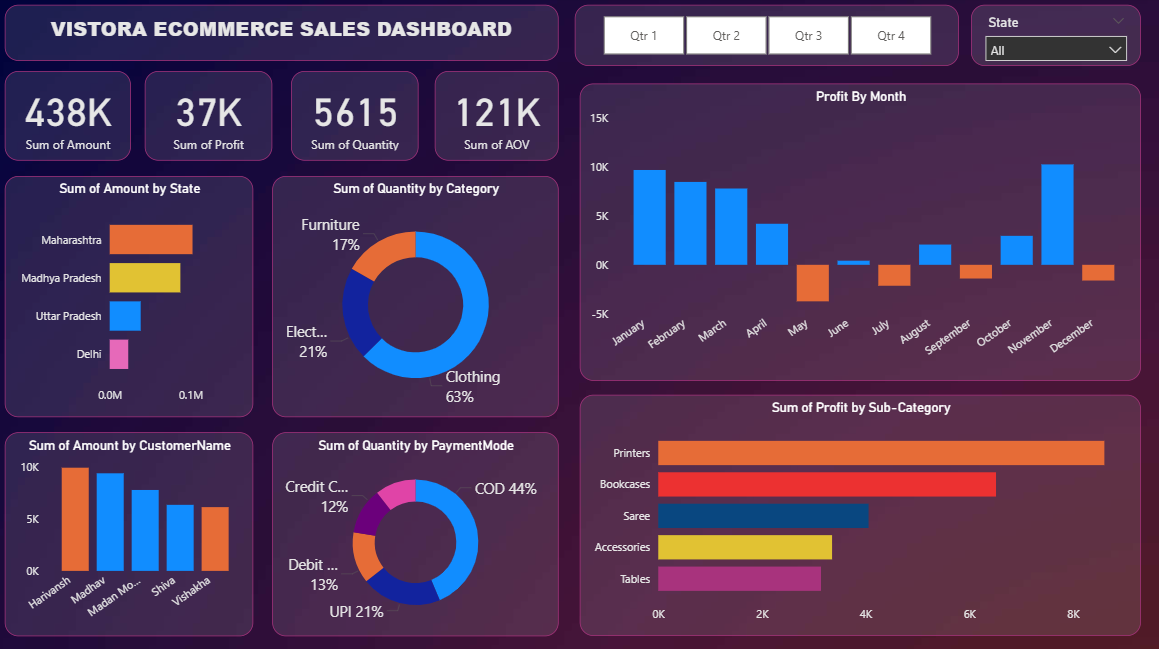

This screenshot's page, from the dashboard's own definition file:
{"tool":"powerbi","page":{"name":"Page 1","canvas":[1280,720],"ordinal":0},"visuals":[{"type":"textbox","box":[9.6,9.6,607.9,61.7],"z":0},{"type":"columnChart","title":"Profit By Month","fields":{"Y":["Details.Profit"],"Category":["Orders.Order Date.Variation.Date Hierarchy.Month"]},"box":[640.8,96.1,616.1,326.6],"z":1000},{"type":"barChart","fields":{"Category":["Details.Sub-Category"],"Y":["Details.Profit"]},"box":[640.8,437.7,616.1,264.8],"z":2000},{"type":"donutChart","fields":{"Category":["Details.Category"],"Y":["Details.Quantity"]},"box":[303.3,197.6,314.2,264.8],"z":3000},{"type":"donutChart","fields":{"Y":["Details.Quantity"],"Category":["Details.PaymentMode"]},"box":[303.3,478.9,314.2,223.7],"z":4000},{"type":"card","fields":{"Values":["Details.Amount"]},"box":[9.6,82.3,138.6,98.8],"z":5000},{"type":"card","fields":{"Values":["Details.Profit"]},"box":[163.3,82.3,140,98.8],"z":6000},{"type":"card","fields":{"Values":["Details.Quantity"]},"box":[323.8,82.3,140,98.8],"z":7000},{"type":"card","fields":{"Values":["Details.AOV"]},"box":[481.6,82.3,135.8,98.8],"z":8000},{"type":"barChart","fields":{"Category":["Orders.State"],"Y":["Details.Amount"]},"box":[9.6,197.6,273.1,264.8],"z":9000},{"type":"columnChart","fields":{"Category":["Orders.CustomerName"],"Y":["Details.Amount"]},"box":[10,479,273,224],"z":10000},{"type":"slicer","fields":{"Values":["Orders.Order Date.Variation.Date Hierarchy.Quarter"]},"box":[635.3,9.6,421.3,67.2],"z":11000},{"type":"slicer","fields":{"Values":["Orders.State"]},"box":[1070.3,9.6,186.6,67.2],"z":12000}]}

Visuals, with their boxes in screenshot pixels (x1, y1, x2, y2), scaled from the page's 1280x720 canvas onto the 1159x649 screenshot:
textbox: Rect(9, 9, 559, 64)
"Profit By Month" columnChart: Rect(580, 87, 1138, 381)
barChart - Details.Sub-Category x Details.Profit: Rect(580, 395, 1138, 633)
donutChart - Details.Category x Details.Quantity: Rect(275, 178, 559, 417)
donutChart - Details.Quantity x Details.PaymentMode: Rect(275, 432, 559, 633)
card - Details.Amount: Rect(9, 74, 134, 163)
card - Details.Profit: Rect(148, 74, 275, 163)
card - Details.Quantity: Rect(293, 74, 420, 163)
card - Details.AOV: Rect(436, 74, 559, 163)
barChart - Orders.State x Details.Amount: Rect(9, 178, 256, 417)
columnChart - Orders.CustomerName x Details.Amount: Rect(9, 432, 256, 634)
slicer - Orders.Order Date.Variation.Date Hierarchy.Quarter: Rect(575, 9, 957, 69)
slicer - Orders.State: Rect(969, 9, 1138, 69)
